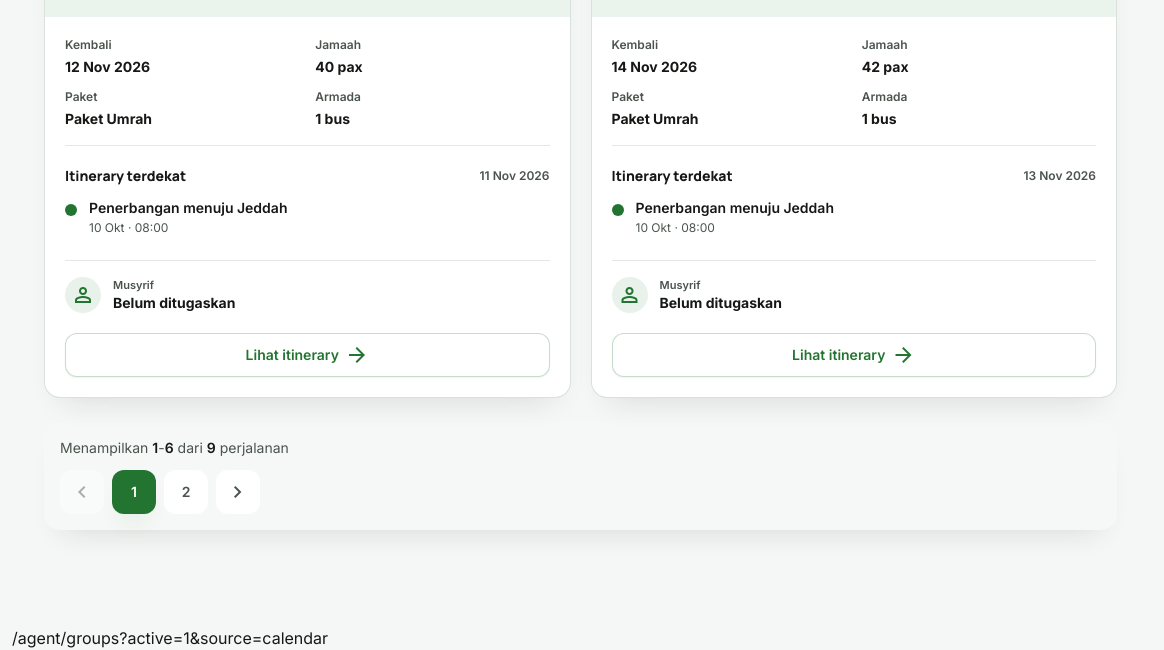
Agent Dashboard and Perjalanan › resets pagination when search changes and clearing search preserves other URL filters
The width and height of the screenshot is (1164, 650).
(page scrolled)
Click the button named "Halaman berikutnya" at [238, 492], box [216,470,260,514]
(page scrolled)
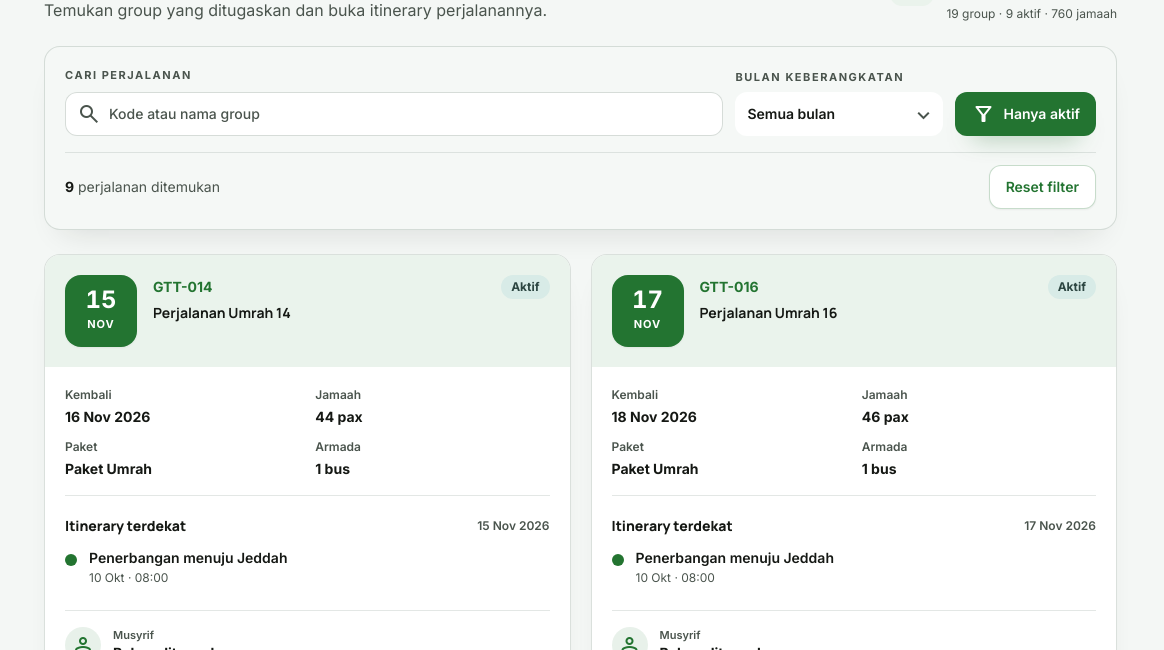
Type "GTT-002" into the search field labelled "Cari perjalanan" at [414, 114], box [109,92,719,136]
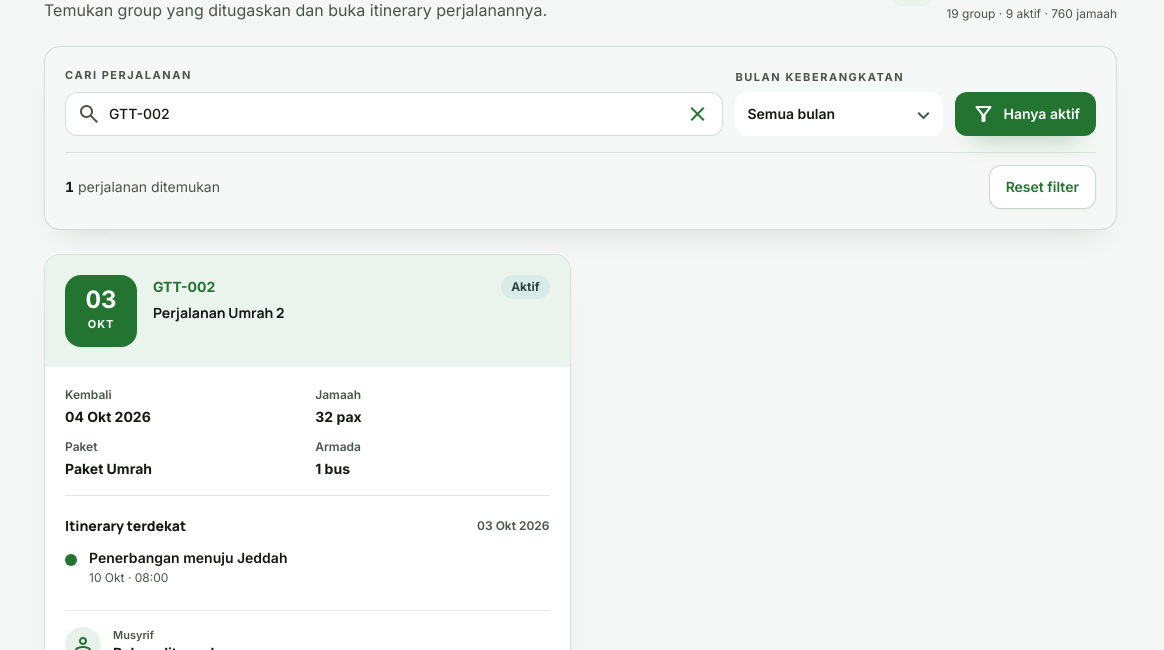
Click the button named "Hapus pencarian" at [697, 114], box [675,92,719,136]
(page scrolled)
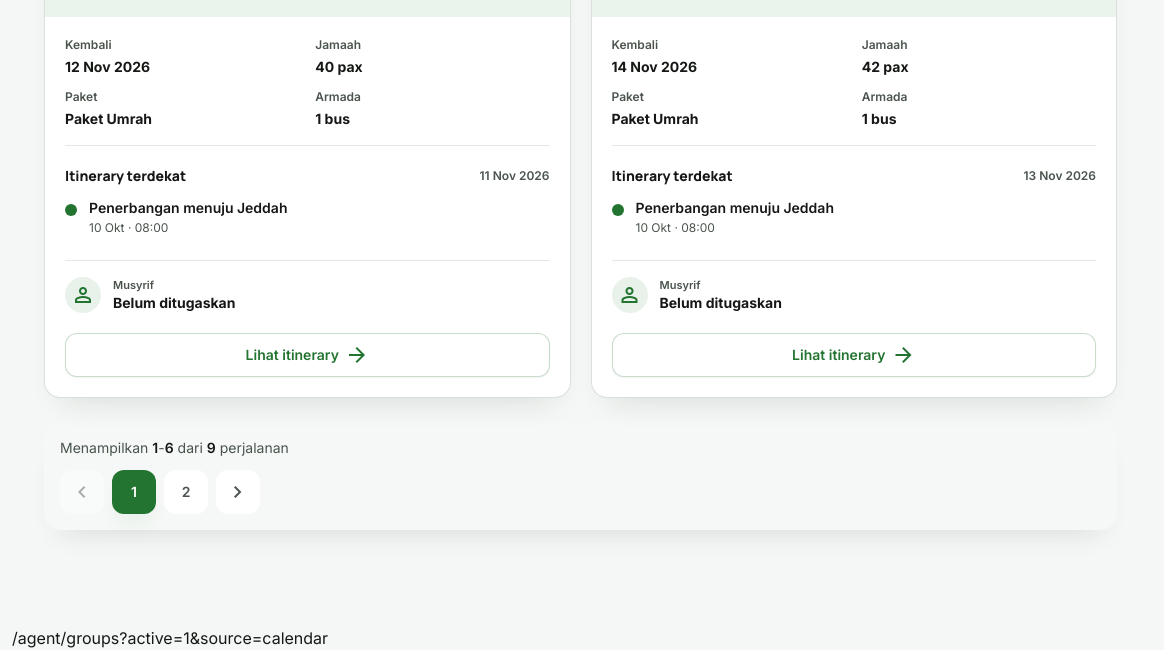
Expected: the text with test id "location" reads "/agent/groups?active=1&source=calendar", [12,628,328,648]
Expected: the button named "Halaman sebelumnya" is disabled, [60,470,104,514]
